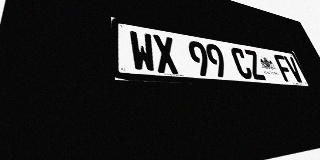9: (186, 40, 213, 77), (204, 43, 230, 78)
C: (229, 47, 254, 79)
F: (273, 54, 295, 82)
V: (283, 56, 305, 83)
W: (129, 30, 157, 73)
X: (152, 34, 180, 74)
Z: (243, 49, 267, 80)
